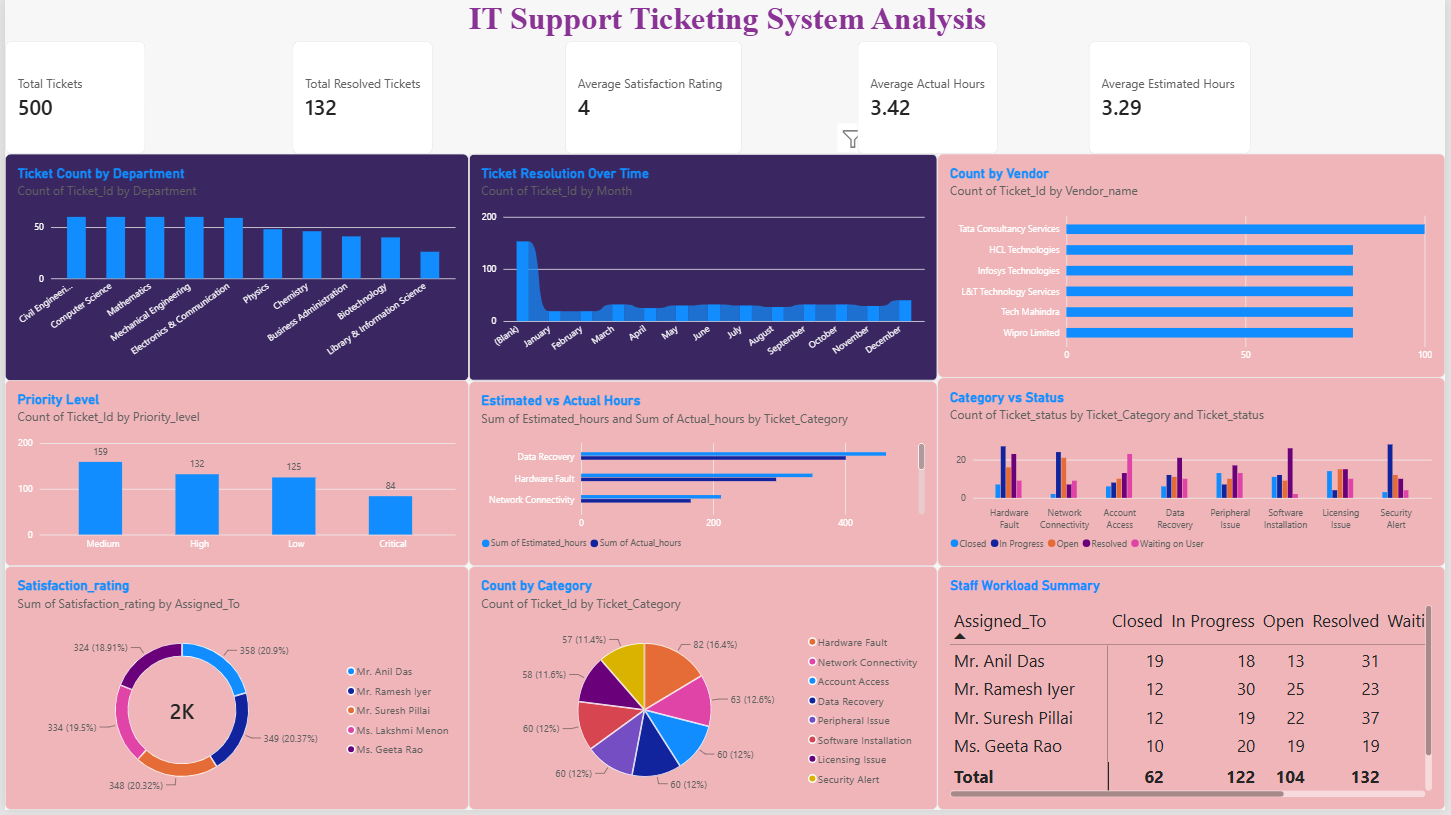

Layout of this report page (visuals, bound fields, positions):
{"tool":"powerbi","page":{"name":"DashBoard","canvas":[1920,1080],"ordinal":10},"visuals":[{"type":"columnChart","title":"Ticket Count by Department","fields":{"Category":["Requesters.Department"],"Y":["CountNonNull(Tickets.Ticket_Id)"]},"box":[0,205,618.3,303.3],"z":0},{"type":"textbox","box":[618.3,0,705,55],"z":1},{"type":"cardVisual","fields":{"Data":["Assets.Total Satisfaction Rating"]},"box":[746.7,55,236.7,150],"z":2},{"type":"cardVisual","fields":{"Data":["Assets.Total Resolved Tickets"]},"box":[383.3,55,187,150],"z":3},{"type":"cardVisual","fields":{"Data":["Assets.Total Tickets"]},"box":[0,54.3,187.1,150],"z":4},{"type":"clusteredColumnChart","title":"Category vs Status","fields":{"Category":["Tickets.Ticket_Category"],"Series":["Tickets.Ticket_status"],"Y":["CountNonNull(Tickets.Ticket_status)"]},"box":[1243.3,503.3,676.7,251.7],"z":5},{"type":"donutChart","title":"Satisfaction_rating","fields":{"Category":["Tickets.Assigned_To"],"Y":["Sum(Tickets.Satisfaction_rating)"]},"box":[0,755,618.3,325],"z":6},{"type":"columnChart","title":"Priority Level","fields":{"Category":["Tickets.Priority_level"],"Y":["CountNonNull(Tickets.Ticket_Id)"]},"box":[0,506.7,618.3,248.3],"z":7},{"type":"ribbonChart","title":"Ticket Resolution Over Time","fields":{"Category":["Tickets.Resolved_at.Variation.Date Hierarchy.Month"],"Y":["CountNonNull(Tickets.Ticket_Id)"]},"box":[618.3,205,625,303.3],"z":8},{"type":"barChart","title":"Count by Vendor","fields":{"Category":["Assets.Vendor_name"],"Y":["CountNonNull(Tickets.Ticket_Id)"]},"box":[1243.3,205,676.7,298.3],"z":9},{"type":"clusteredBarChart","title":"Estimated vs Actual Hours","fields":{"Category":["Tickets.Ticket_Category"],"Y":["Sum(Tickets.Estimated_hours)","Sum(Tickets.Actual_hours)"]},"box":[618.3,508.3,625,246.7],"z":10},{"type":"pieChart","title":"Count by Category","fields":{"Category":["Tickets.Ticket_Category"],"Y":["CountNonNull(Tickets.Ticket_Id)"]},"box":[618.3,755,625,325],"z":11},{"type":"pivotTable","title":"Staff Workload Summary","fields":{"Columns":["Tickets.Ticket_status"],"Rows":["Tickets.Assigned_To"],"Values":["CountNonNull(Tickets.Ticket_Id)"]},"box":[1243.3,755,676.7,325],"z":12},{"type":"cardVisual","fields":{"Data":["Assets.Average Actual Hours"]},"box":[1136.7,55,187,150],"z":13},{"type":"cardVisual","fields":{"Data":["Assets.Average Estimated Hours"]},"box":[1445,55,216.7,150],"z":14}]}

Visuals, with their boxes in screenshot pixels (x1, y1, x2, y2), scaled from the page's 1920x1080 canvas onto the 1451x815 screenshot:
"Ticket Count by Department" columnChart: locate(0, 155, 467, 384)
textbox: locate(467, 0, 1000, 42)
cardVisual - Assets.Total Satisfaction Rating: locate(564, 42, 743, 155)
cardVisual - Assets.Total Resolved Tickets: locate(290, 42, 431, 155)
cardVisual - Assets.Total Tickets: locate(0, 41, 141, 154)
"Category vs Status" clusteredColumnChart: locate(940, 380, 1450, 570)
"Satisfaction_rating" donutChart: locate(0, 570, 467, 814)
"Priority Level" columnChart: locate(0, 382, 467, 570)
"Ticket Resolution Over Time" ribbonChart: locate(467, 155, 940, 384)
"Count by Vendor" barChart: locate(940, 155, 1450, 380)
"Estimated vs Actual Hours" clusteredBarChart: locate(467, 384, 940, 570)
"Count by Category" pieChart: locate(467, 570, 940, 814)
"Staff Workload Summary" pivotTable: locate(940, 570, 1450, 814)
cardVisual - Assets.Average Actual Hours: locate(859, 42, 1000, 155)
cardVisual - Assets.Average Estimated Hours: locate(1092, 42, 1256, 155)
